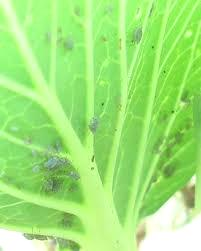Bok-Choy-Diseased: (0, 0, 201, 234)
